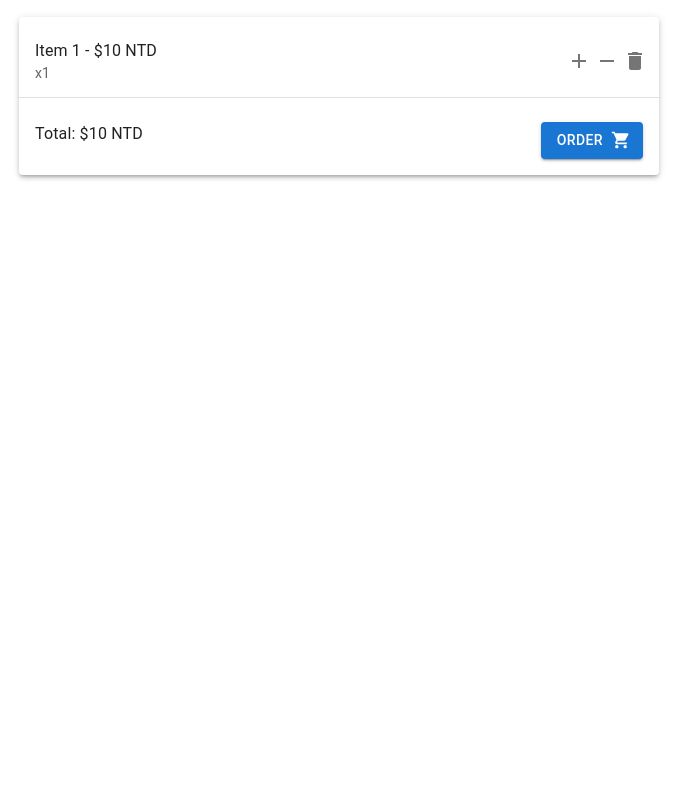
Test case: Test for CartPage › Displays the snackbar after pressing submit order
Click the icon with test id "ShoppingCartIcon" at (621, 140), box [611,130,631,150]
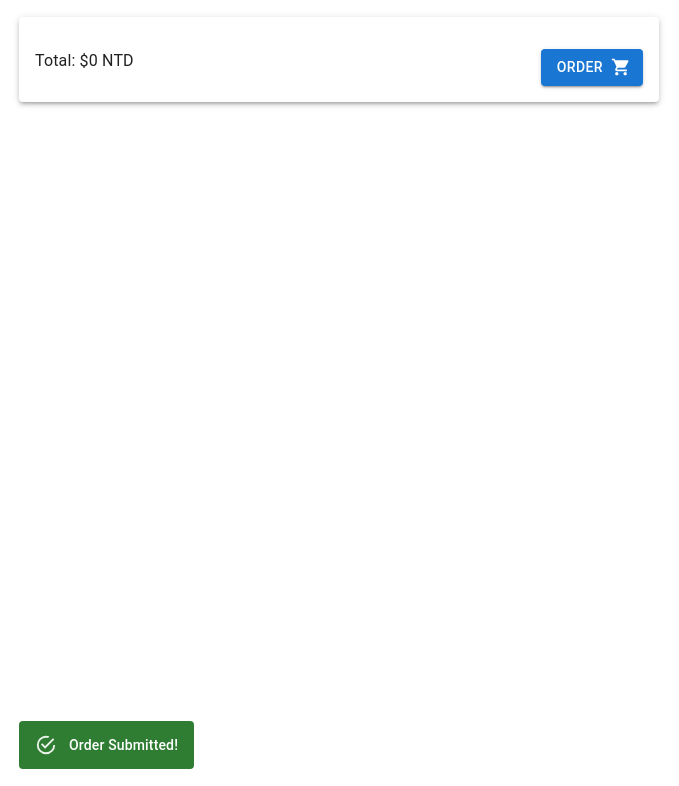
Result: the message "Order Submitted!" is shown at [19,721,194,769]
